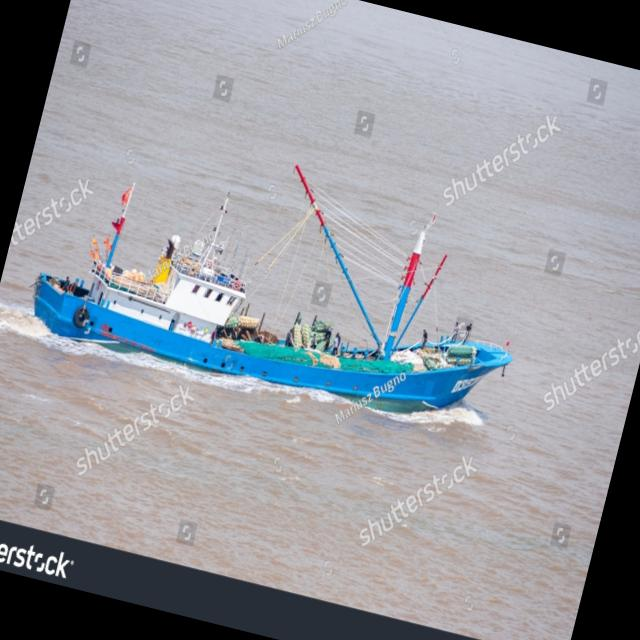boat: (4, 68, 572, 478)
